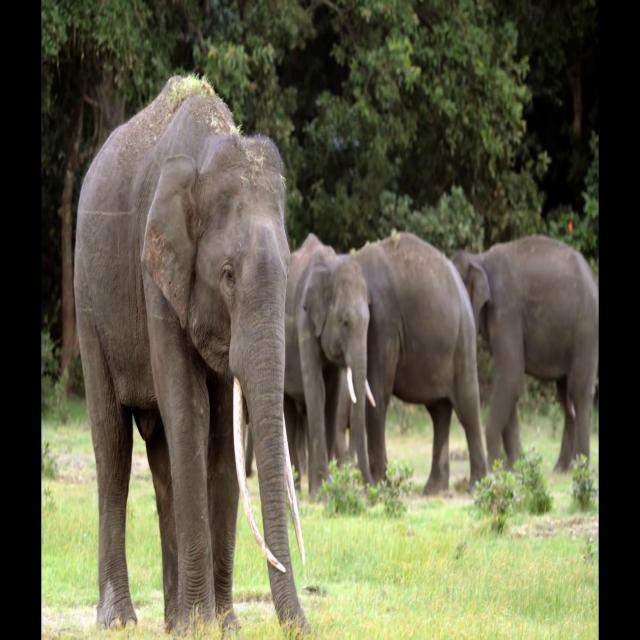Elephant: (73, 72, 311, 637), (332, 229, 488, 498), (450, 233, 599, 475), (283, 232, 377, 503)
